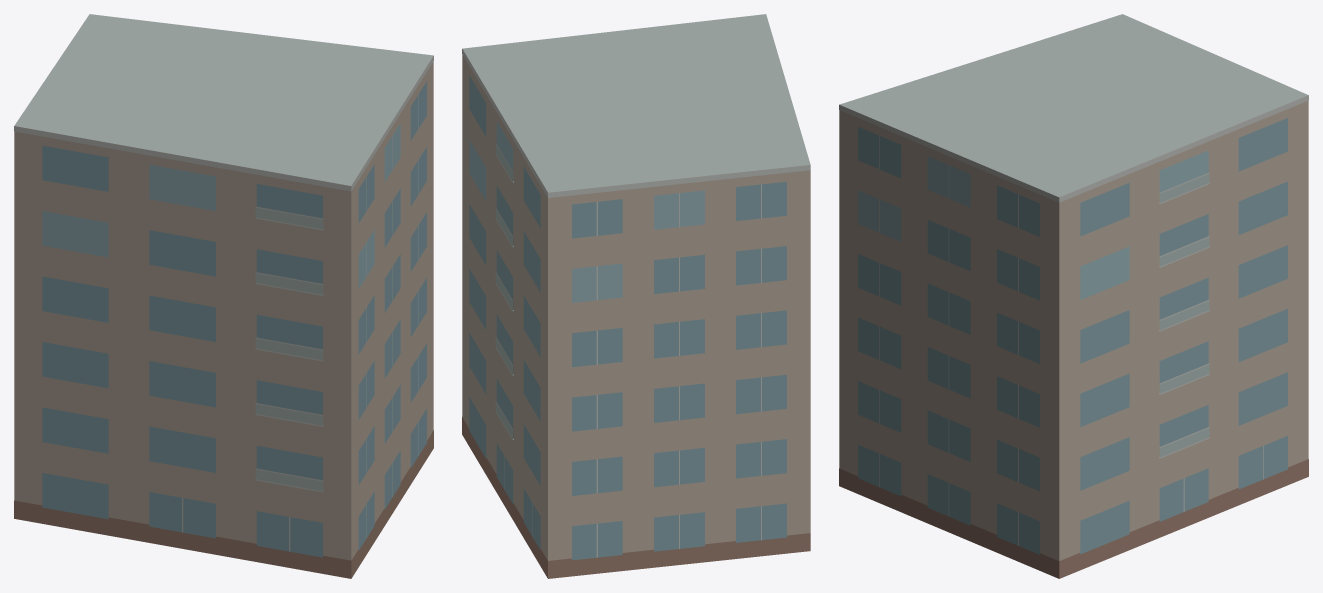
Rendered from survey-upis-32959789.glb.
The picture shows the model from 3 angles, left to right: view 1: azimuth 30°, elevation 25°; view 2: azimuth 150°, elevation 25°; view 3: azimuth 270°, elevation 25°; orthographic projection. The views are drawn at different scales.
Visible parts, largest first — view 1: survey-upis-32959789.tmp; view 2: survey-upis-32959789.tmp; view 3: survey-upis-32959789.tmp.
Part boxes in pixels (x1,y1,x2,y2): survey-upis-32959789.tmp: (14, 14, 433, 578); survey-upis-32959789.tmp: (462, 14, 810, 578); survey-upis-32959789.tmp: (839, 14, 1308, 578).
Bounding box in the file's own units: 18.24 × 17.68 × 19.73.
